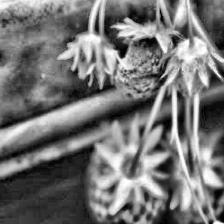Gray Mold: (110, 20, 188, 99)
